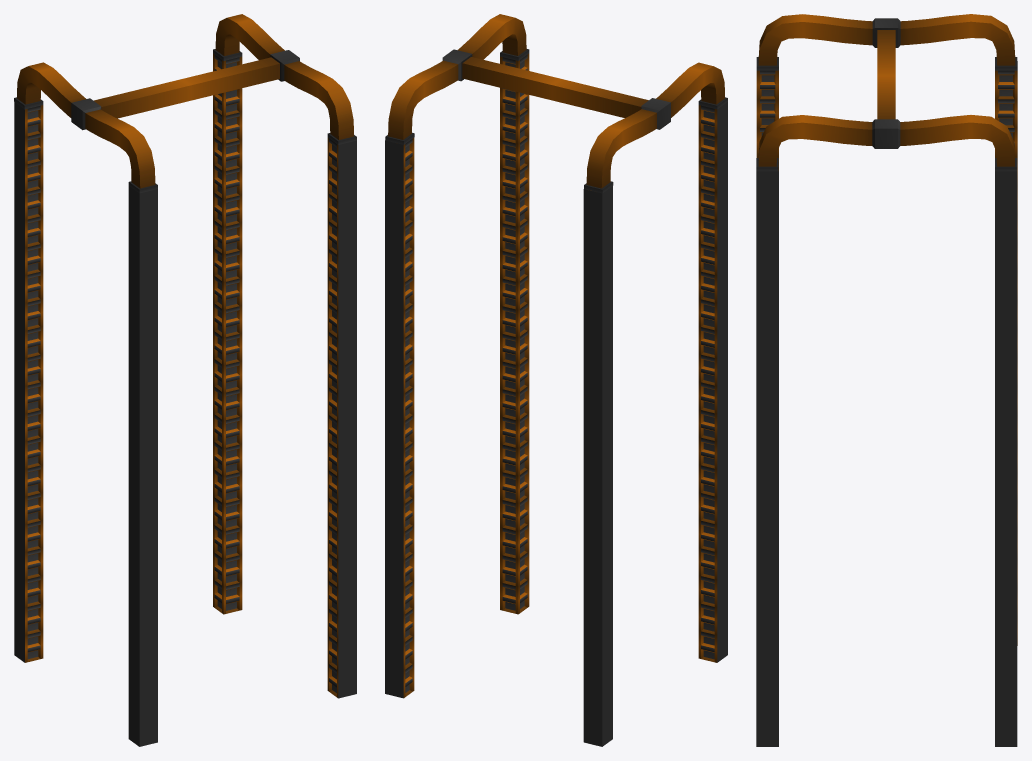
Rendered from Asset_ComienzoPilares.fbx.
3 views of the same model, side by side, from view 1: azimuth 30°, elevation 25°; view 2: azimuth 150°, elevation 25°; view 3: azimuth 270°, elevation 25° (orthographic). The views are drawn at different scales.
Visible parts, largest first — view 1: Asset_ComienzoPilar; view 2: Asset_ComienzoPilar; view 3: Asset_ComienzoPilar.
Boxes of the visible parts, x1,y1,x2,y2 form: Asset_ComienzoPilar: (14,14,356,746); Asset_ComienzoPilar: (385,14,727,746); Asset_ComienzoPilar: (756,14,1017,746).
Bounding box in the file's own units: 286 × 754 × 286.
